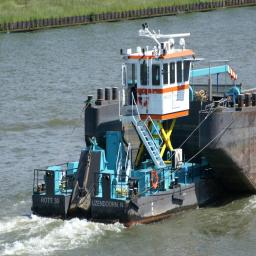tugboat: (31, 24, 219, 233)
